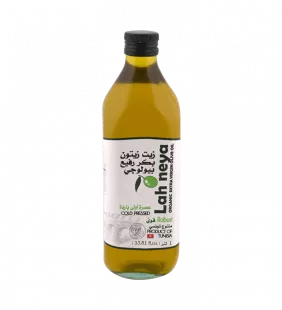LAHNEYA: (92, 20, 189, 284)
